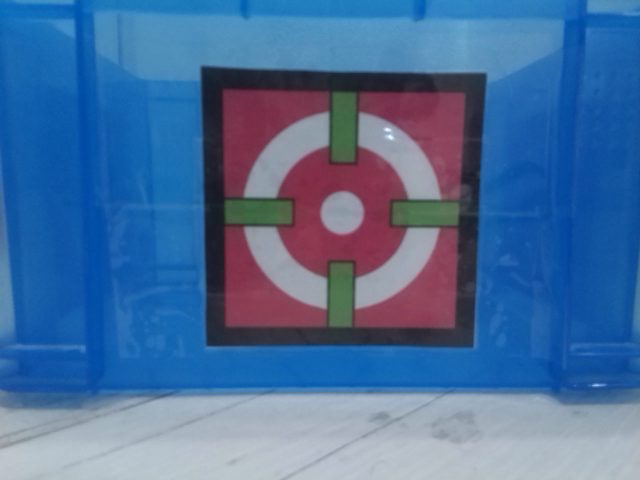drop-bin: (200, 65, 487, 349)
